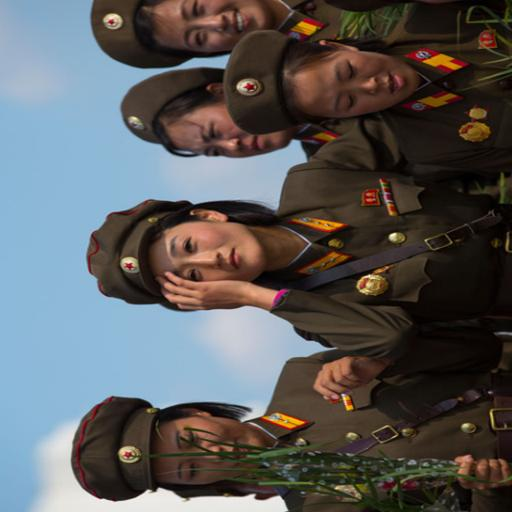north army: (60, 0, 512, 512)
